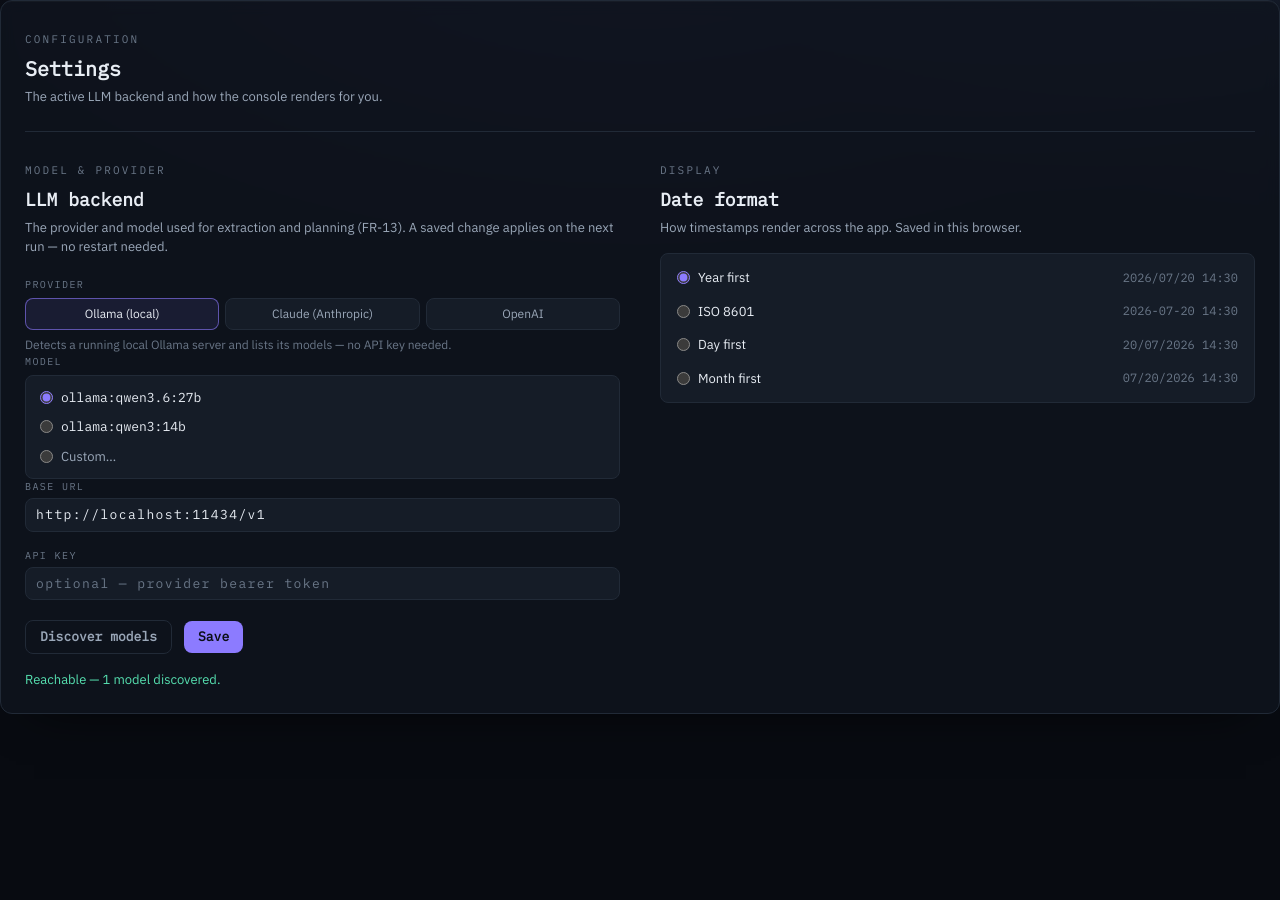
Test: Settings › renders the current model and saves an edit
The width and height of the screenshot is (1280, 900).
Expected: the radio button labelled "ollama:qwen3.6:27b" is checked, [40, 391, 53, 404]
Switch to a discovered model by selecting its radio.
Click the radio button labelled "ollama:qwen3:14b" at (46, 427), box [40, 420, 53, 433]
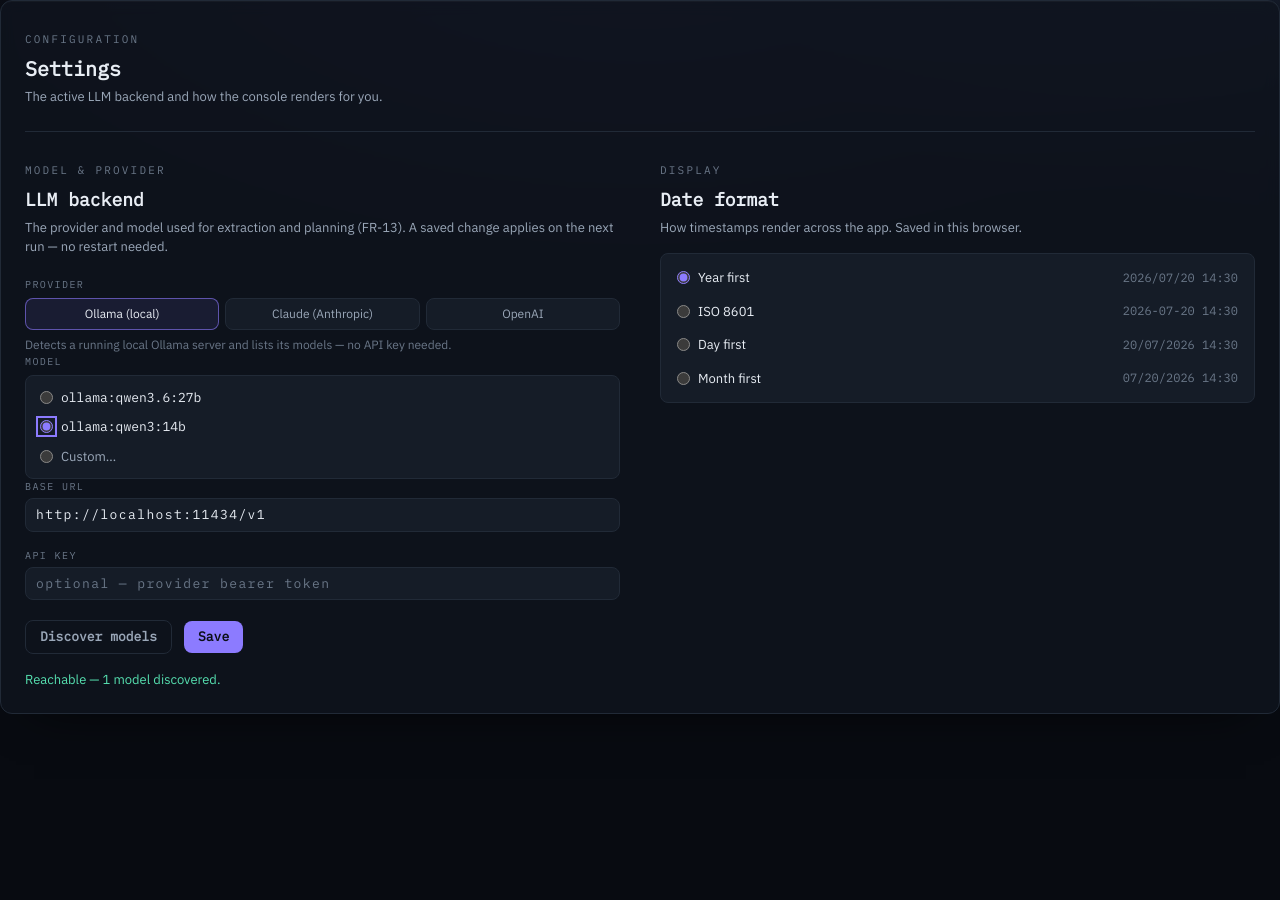
Type "sk-secret" into the password field labelled "API key" at (322, 583), box [25, 566, 620, 600]
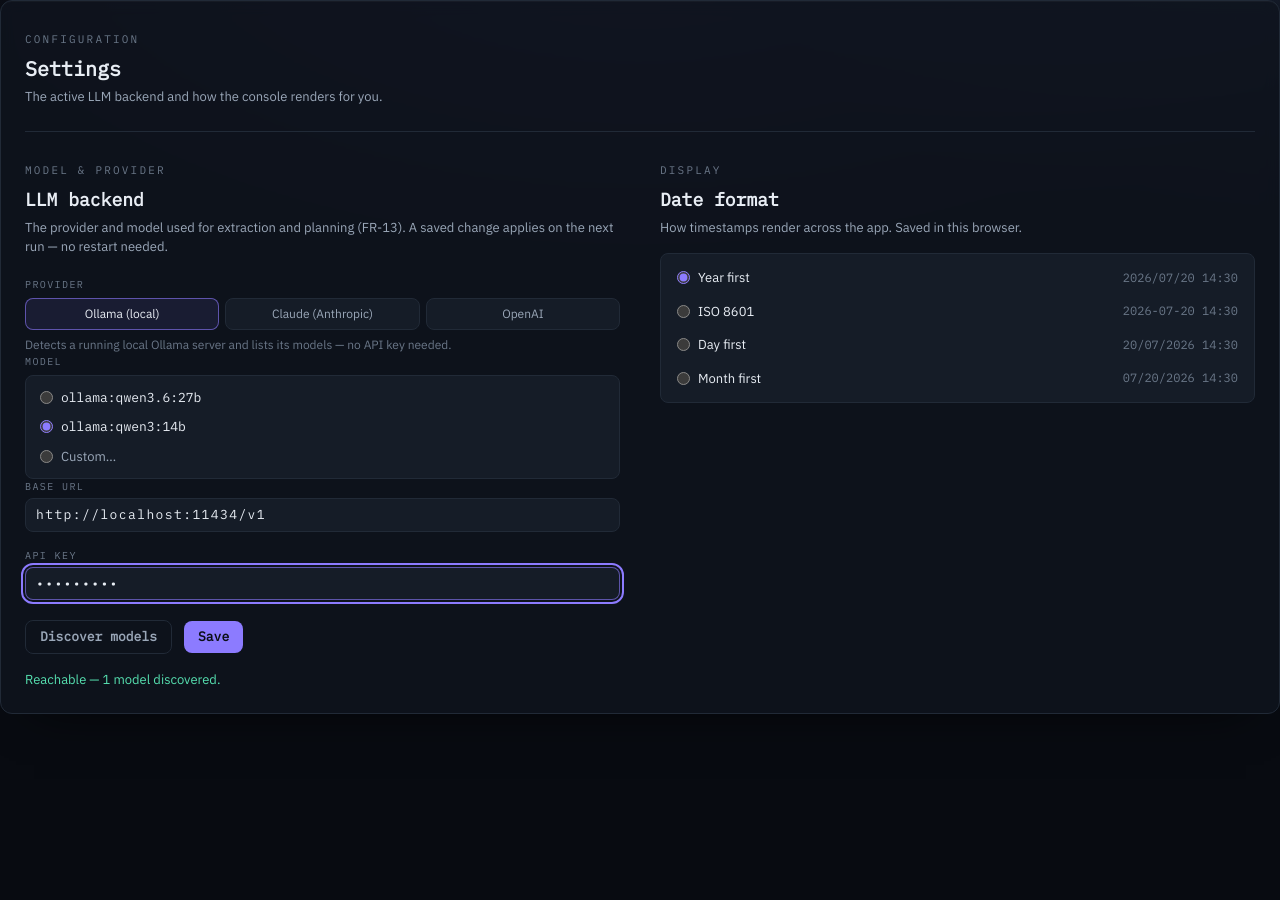
Click the button "Save" at (214, 637), box [184, 621, 243, 652]
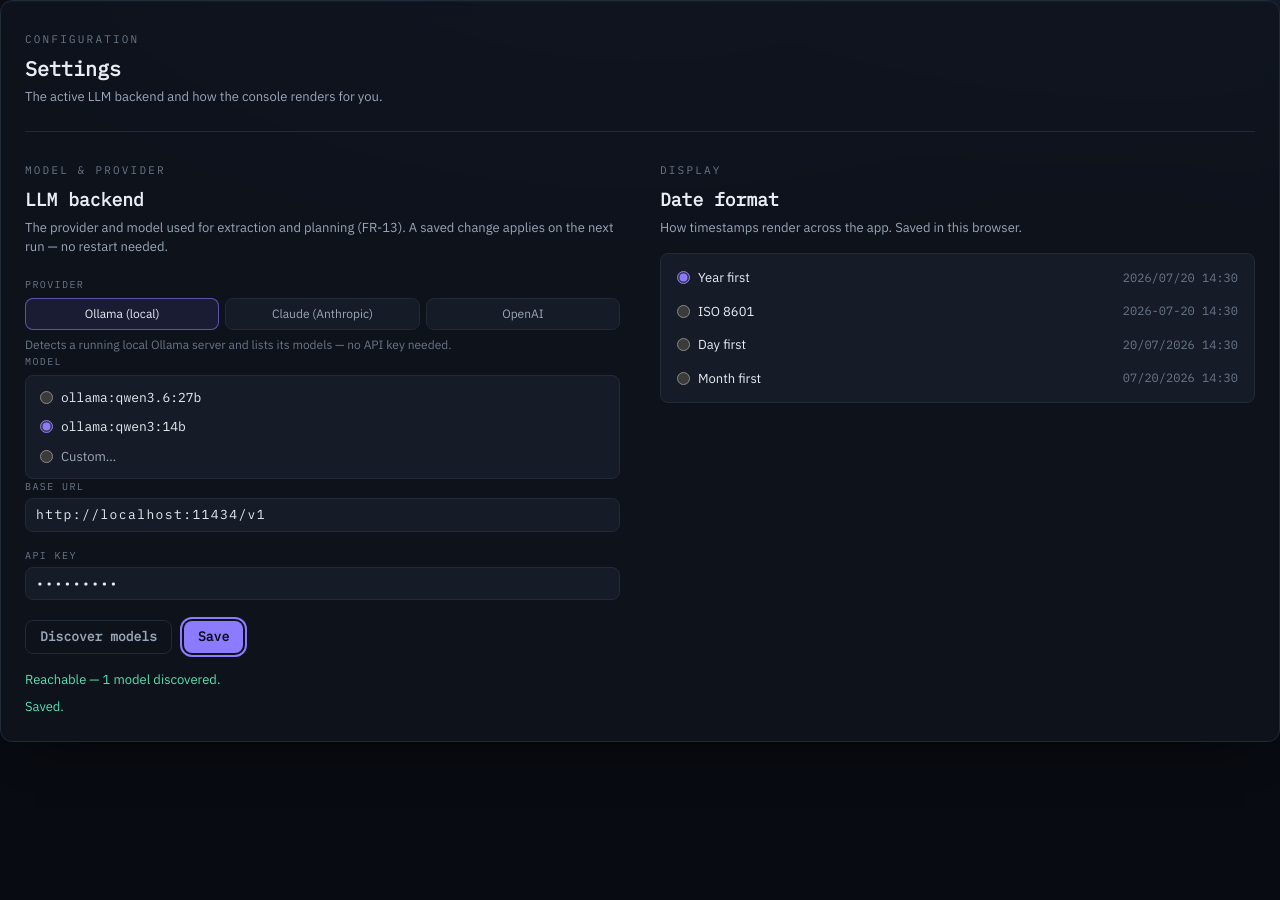
Result: the text "Saved." is shown at [25, 698, 64, 715]
